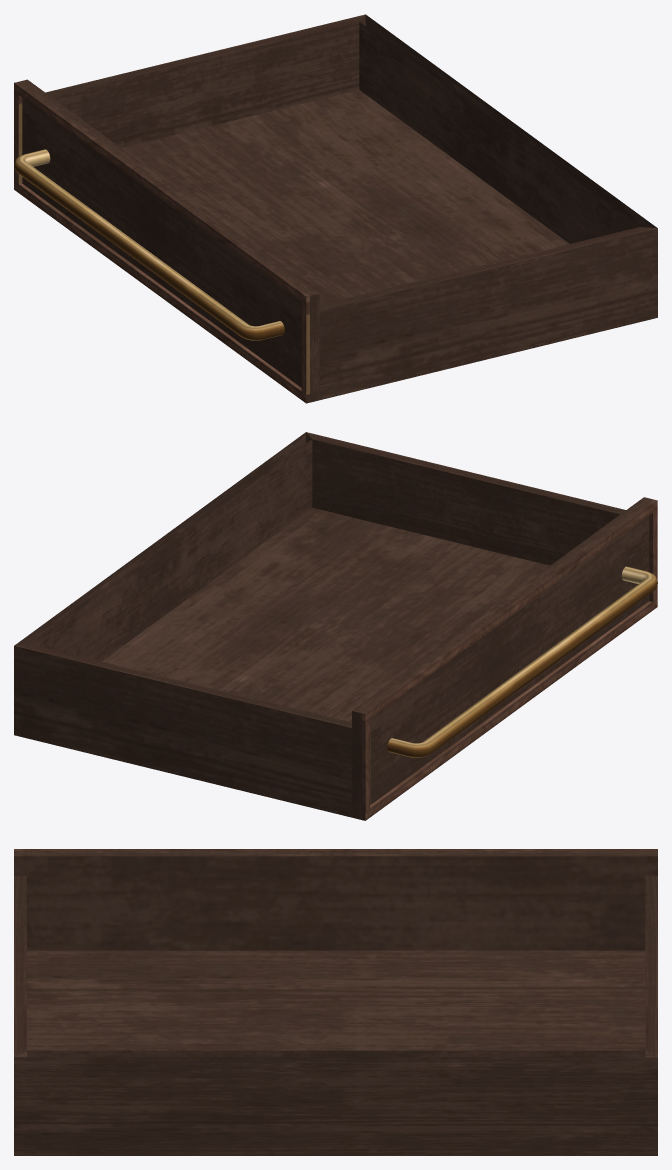
Rendered from ExporLibraryHallTableDrawer.FBX.
3 views of the same model, one above another, from view 1: azimuth 30°, elevation 25°; view 2: azimuth 150°, elevation 25°; view 3: azimuth 270°, elevation 25° (orthographic). The views are drawn at different scales.
Visible parts, largest first — view 1: drawer_new; view 2: drawer_new; view 3: drawer_new.
Part boxes in pixels (x1=…): drawer_new: x1=14, y1=14, x2=657, y2=403; drawer_new: x1=14, y1=432, x2=657, y2=820; drawer_new: x1=14, y1=849, x2=657, y2=1155.
Size of the model in its own units: 36.74 by 48.38 by 9.75.
